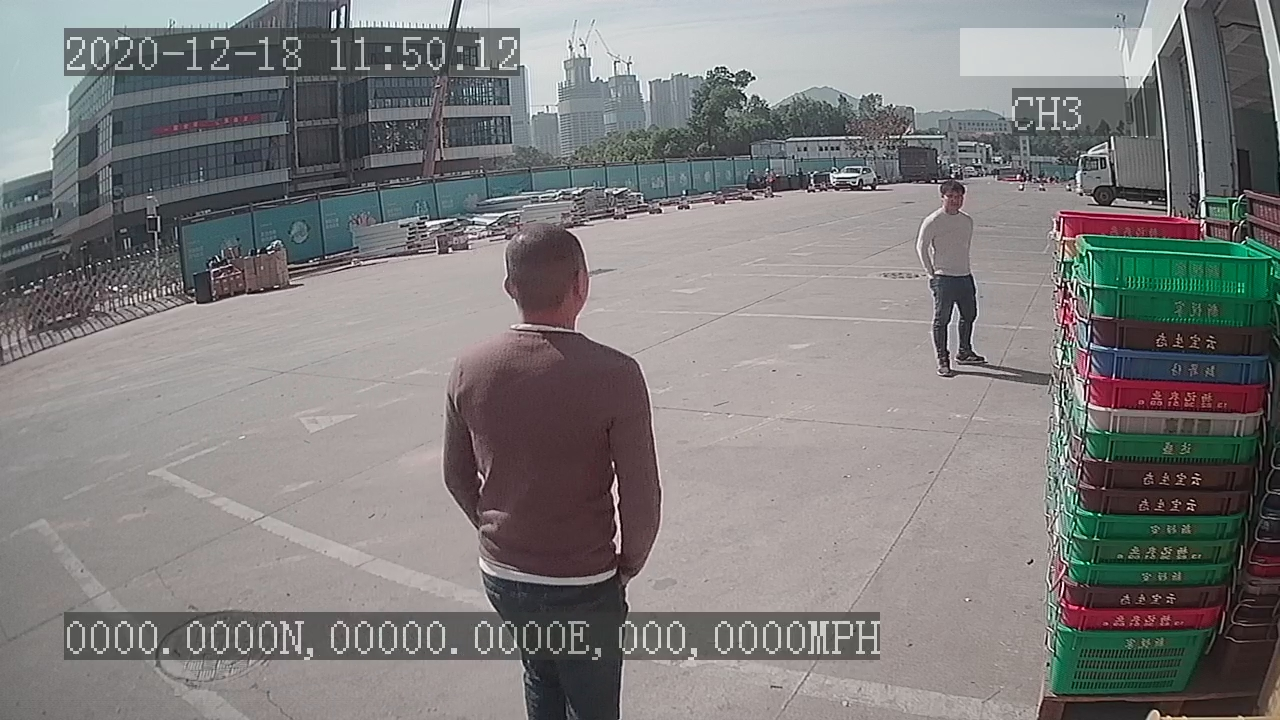person: (909, 177, 993, 381)
